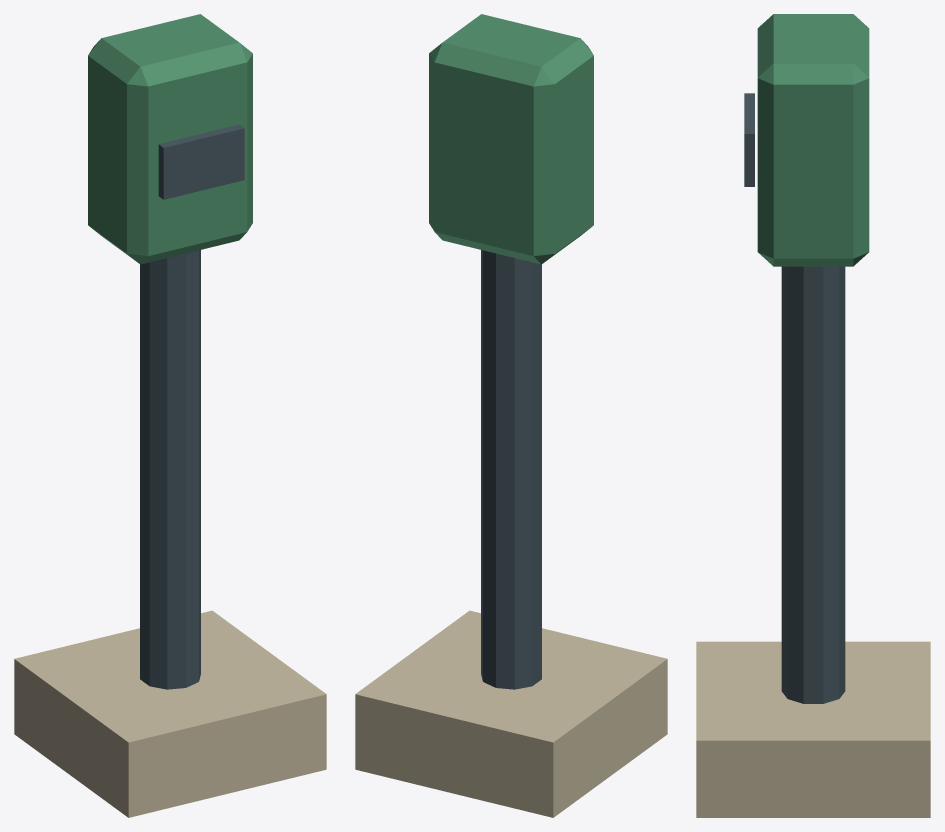
Rendered from parking_meter.glb.
The picture shows the model from 3 angles, left to right: view 1: azimuth 30°, elevation 25°; view 2: azimuth 150°, elevation 25°; view 3: azimuth 270°, elevation 25°; orthographic projection. The views are drawn at different scales.
Parts seen in each view (by area): view 1: parking_meter; view 2: parking_meter; view 3: parking_meter.
Boxes of the visible parts, box(x1,y1,x2,y2) form: parking_meter: box(14, 14, 326, 817); parking_meter: box(355, 14, 667, 817); parking_meter: box(696, 14, 930, 817).
Size of the model in its own units: 0.44 by 1.51 by 0.44.
